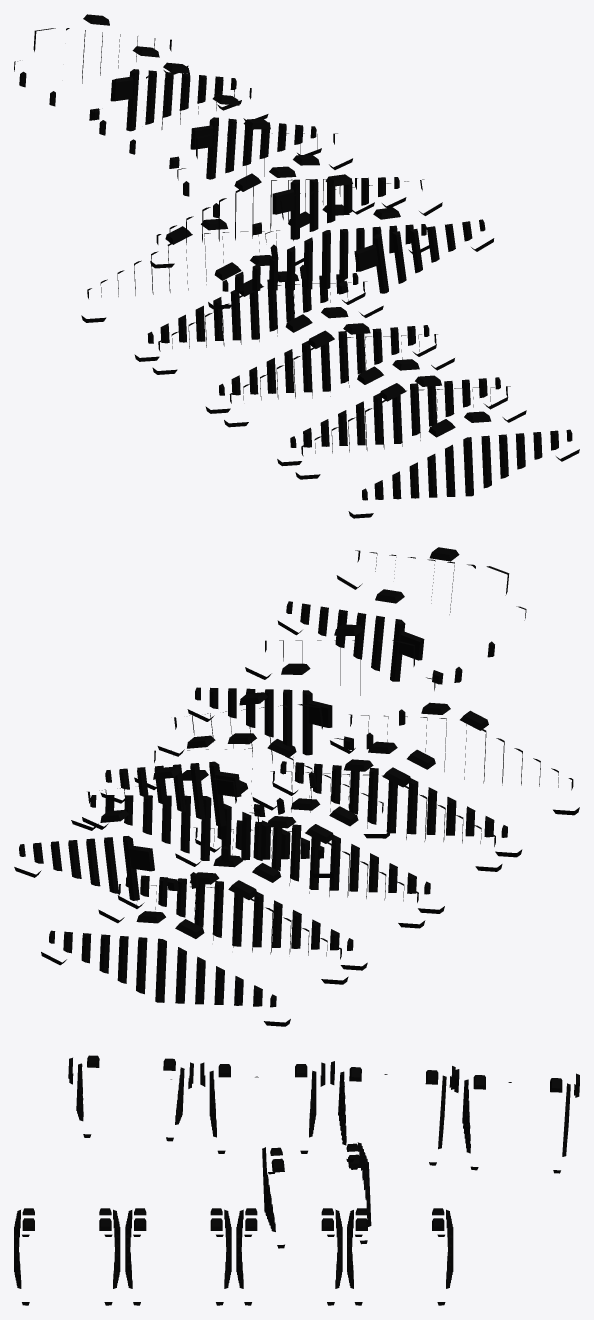
File: prop_static_tan_container_01_12_0.glb
3 views of the same model, one above another, from view 1: azimuth 30°, elevation 25°; view 2: azimuth 150°, elevation 25°; view 3: azimuth 270°, elevation 25° (orthographic). The views are drawn at different scales.
Parts seen in each view (by area): view 1: tan_container_01_11_LOD0; view 2: tan_container_01_11_LOD0; view 3: tan_container_01_11_LOD0.
Boxes of the visible parts, x1,y1,x2,y2 form: tan_container_01_11_LOD0: [14, 14, 579, 518]; tan_container_01_11_LOD0: [14, 547, 579, 1026]; tan_container_01_11_LOD0: [14, 1055, 579, 1305].
Size of what is drawn, in the model's own units: 4.14 by 4.22 by 10.73.
1 material, 1 textured.
